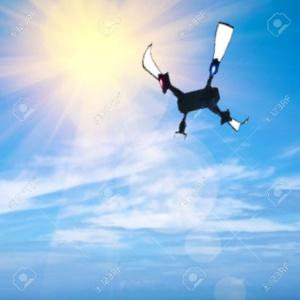drone: (132, 17, 261, 146)
